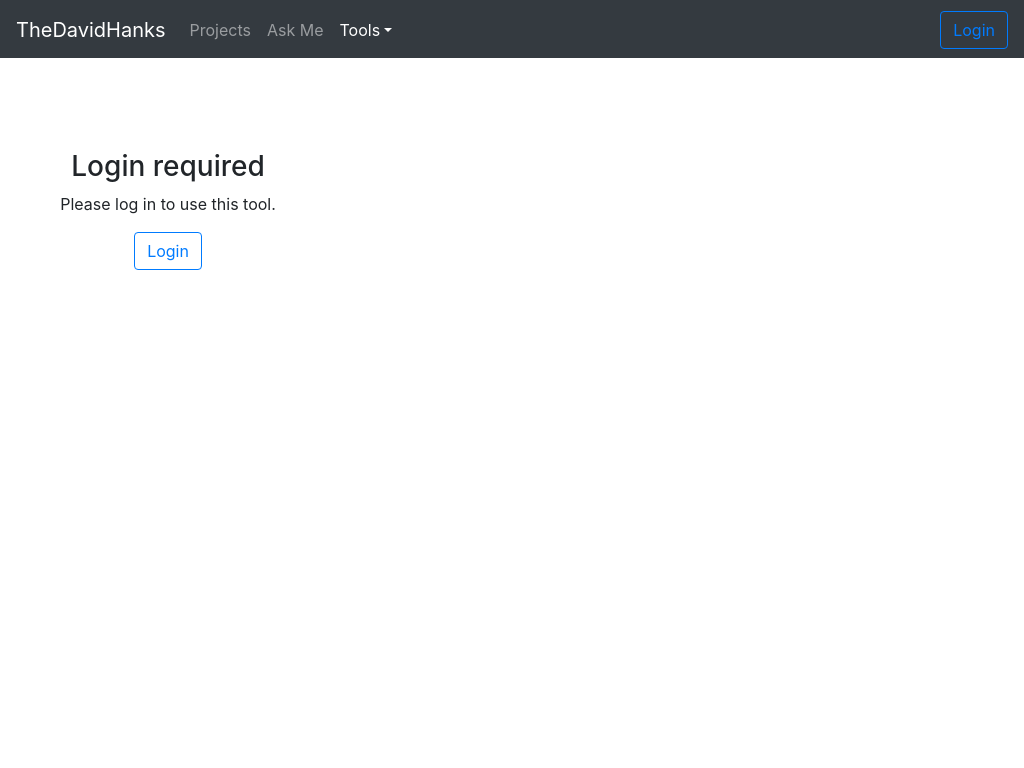
Scenario: /tools/applyforjobs auth gate › signed in: submits the posting to the apply API and shows the result
Expected: the heading "Login required" is shown, [60, 150, 276, 184]
Click the button "Login" below "Please log in to use this tool.".
click(168, 251)  # box [134, 232, 202, 270]
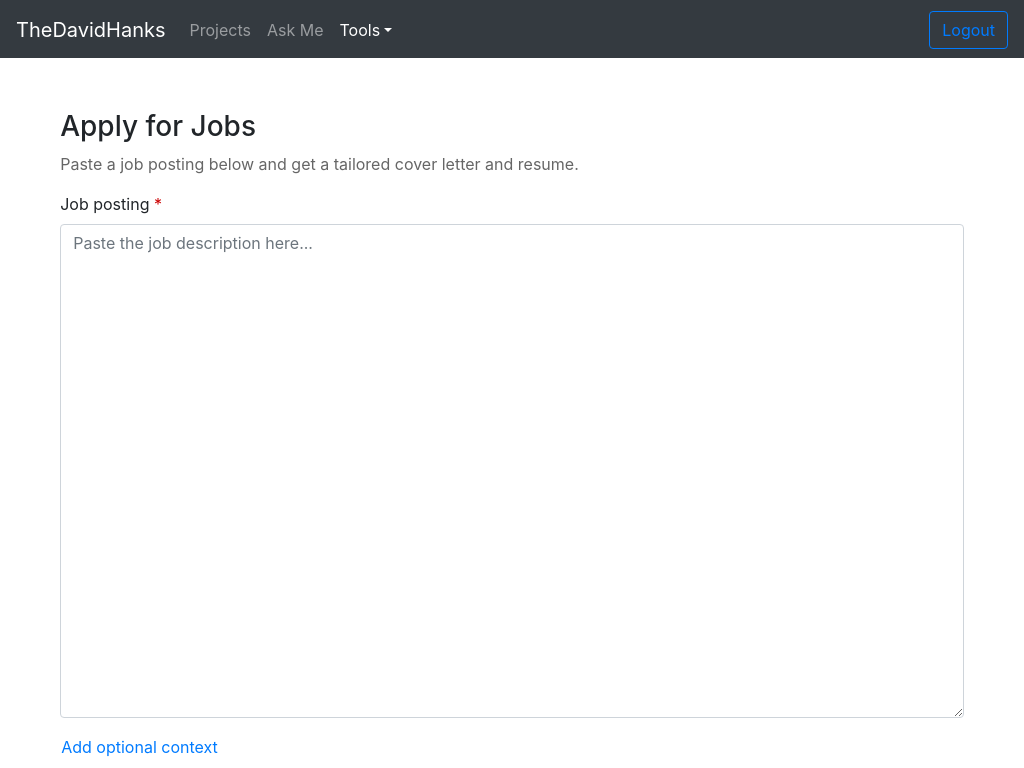
Type "Senior React engineer" into the text box labelled "Job posting *".
click(512, 471); type("Senior React engineer")  # box [60, 224, 964, 718]
(page scrolled)
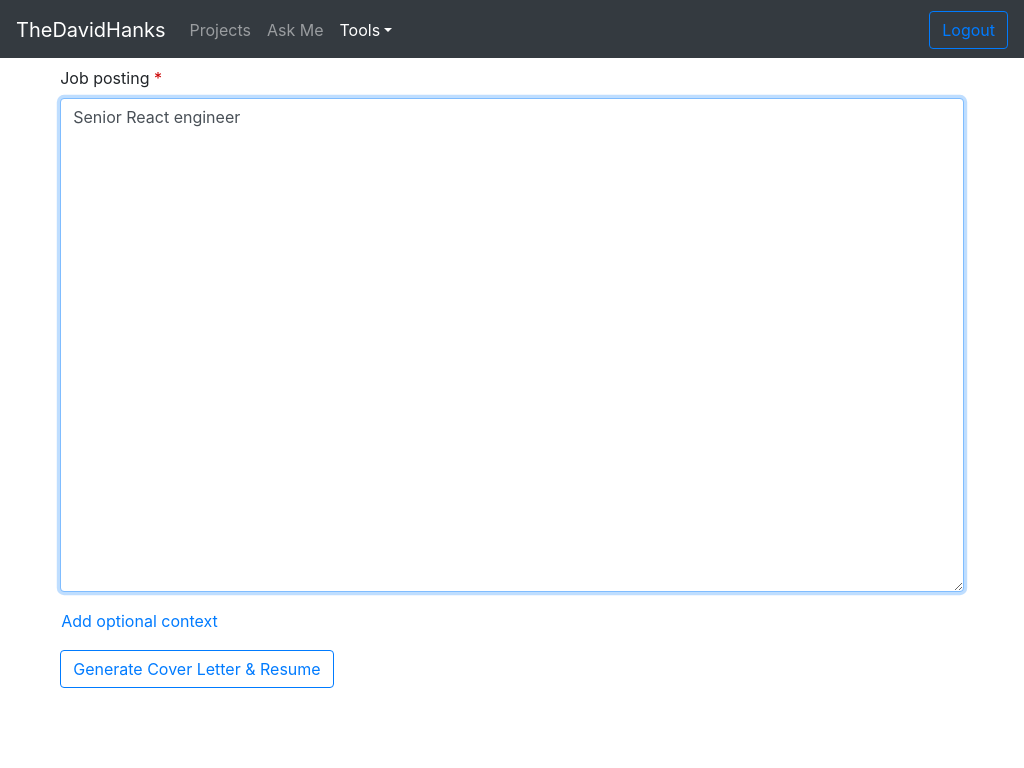
Click the button "Generate Cover Letter & Resume".
click(197, 669)  # box [60, 650, 334, 688]
(page scrolled)
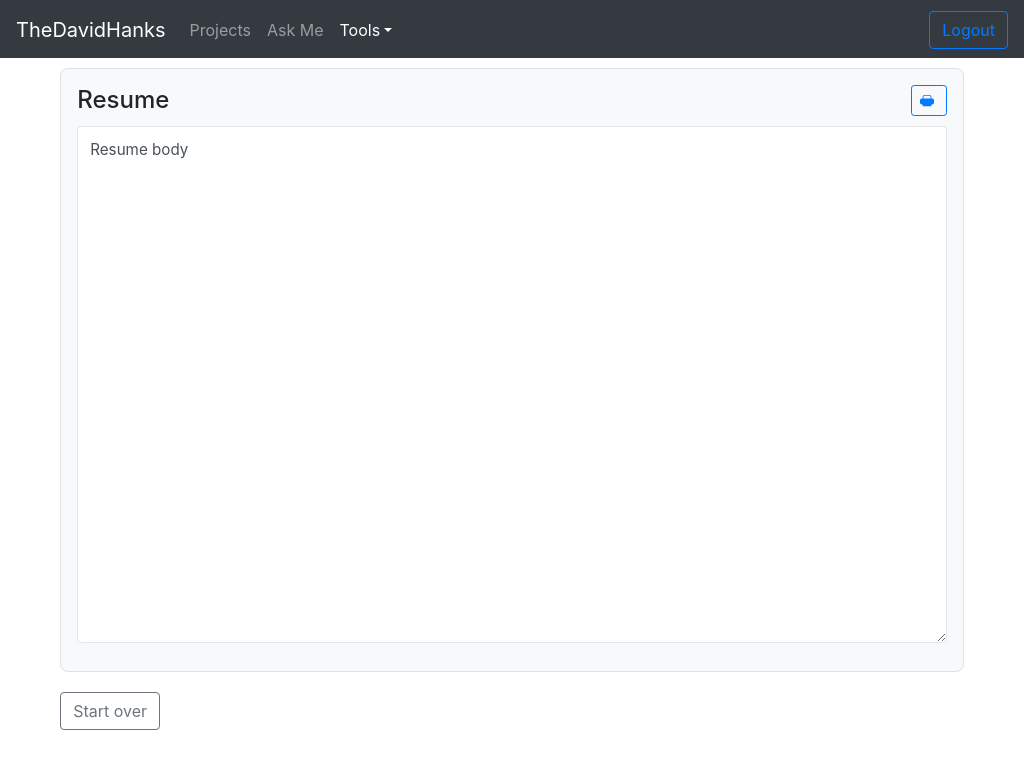
Expected: the text box named "Resume markdown (editable)" holds "Resume body", [77, 126, 947, 643]
